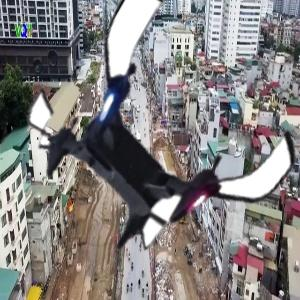drone: (29, 1, 300, 272)
